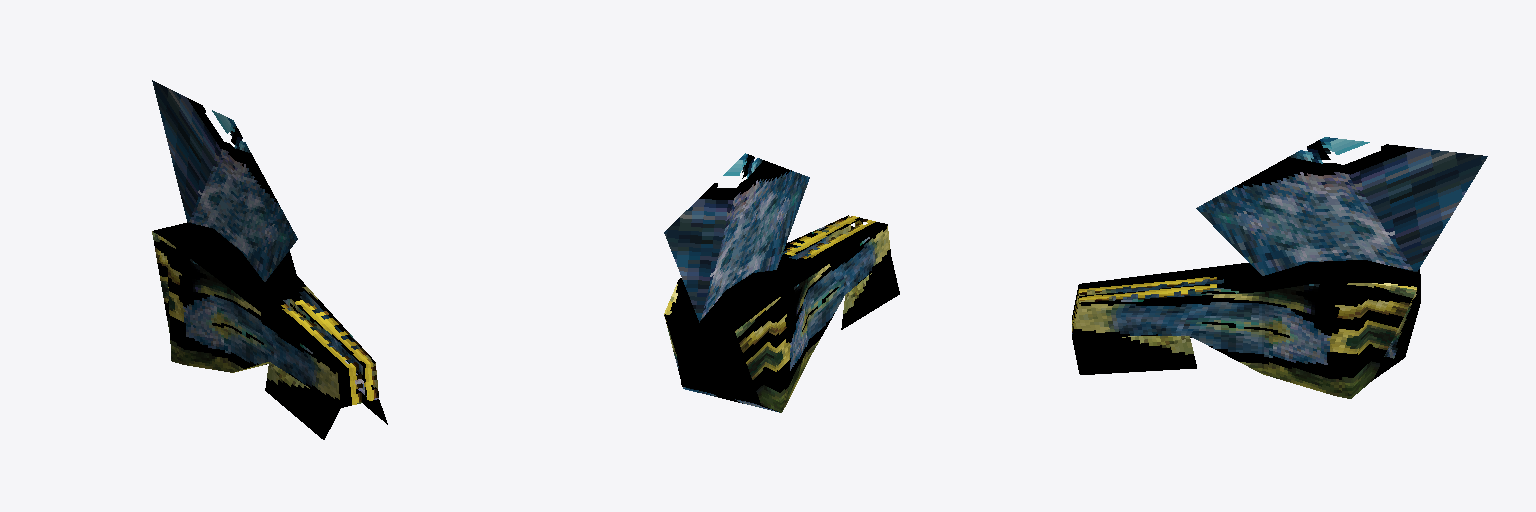
3 views of the same model, side by side, from view 1: azimuth 30°, elevation 25°; view 2: azimuth 150°, elevation 25°; view 3: azimuth 270°, elevation 25° (orthographic).
Parts seen in each view (by area): view 1: Base; view 2: Base; view 3: Base.
Part boxes in pixels (x1,y1,x2,y2): Base: (152,80,387,439); Base: (664,153,899,412); Base: (1072,137,1487,398).
Size of the model in its own units: 0.2717 by 0.6274 by 0.9936.
1 materials, 1 textured.